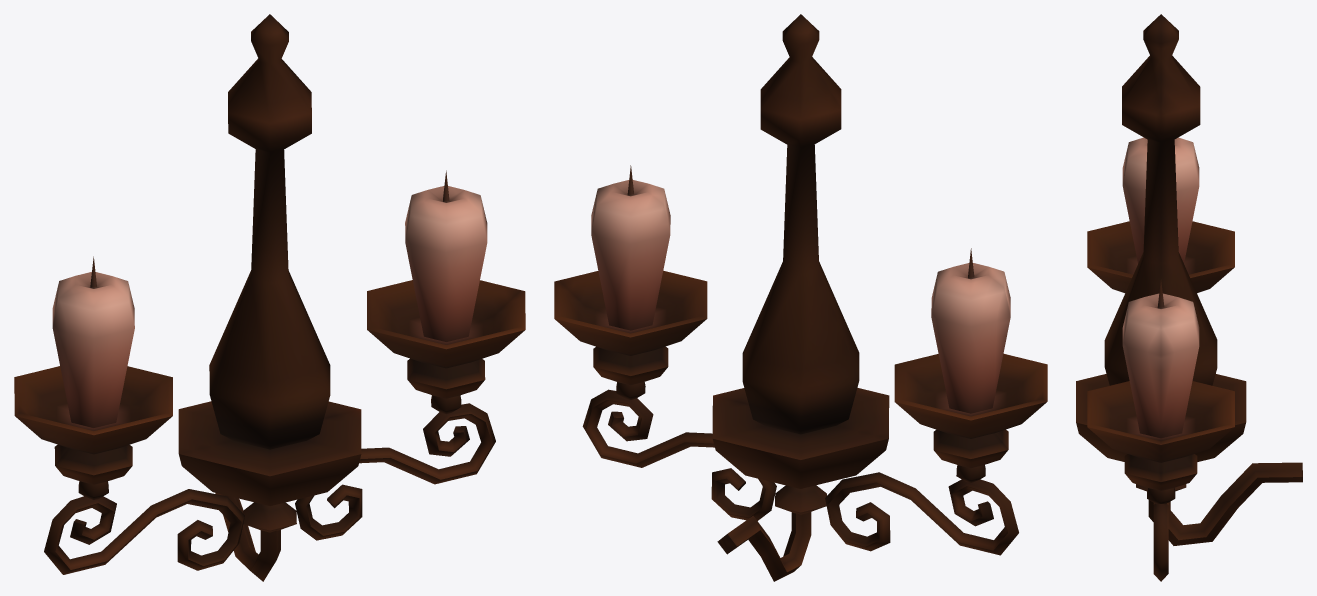
File: Church_Wall_Lamp.FBX
The picture shows the model from 3 angles, left to right: view 1: azimuth 30°, elevation 25°; view 2: azimuth 150°, elevation 25°; view 3: azimuth 270°, elevation 25°; orthographic projection. The views are drawn at different scales.
Parts seen in each view (by area): view 1: Church_Wall_Lamp; view 2: Church_Wall_Lamp; view 3: Church_Wall_Lamp.
Part boxes in pixels (box(x1,y1,x2,y2)): Church_Wall_Lamp: box(14, 14, 525, 581); Church_Wall_Lamp: box(554, 14, 1047, 581); Church_Wall_Lamp: box(1076, 14, 1302, 581).
Bounding box in the file's own units: 37.7 × 40.41 × 15.62.
